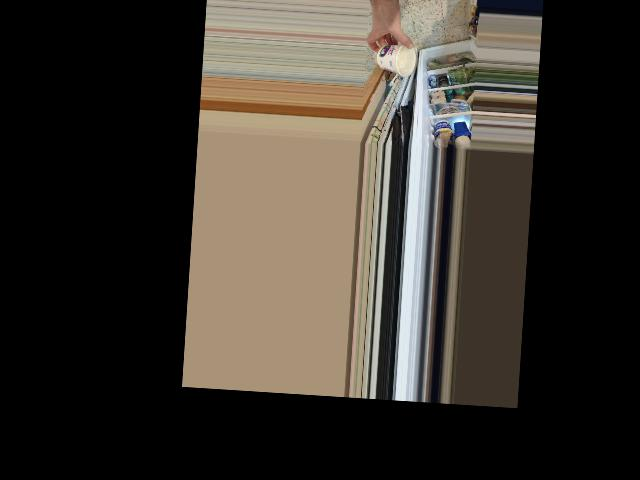cotage: (372, 40, 416, 76)
